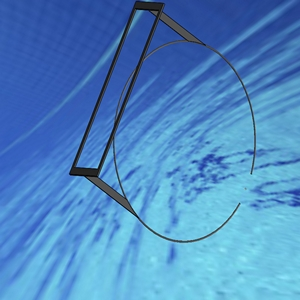circle: (71, 1, 256, 243)
